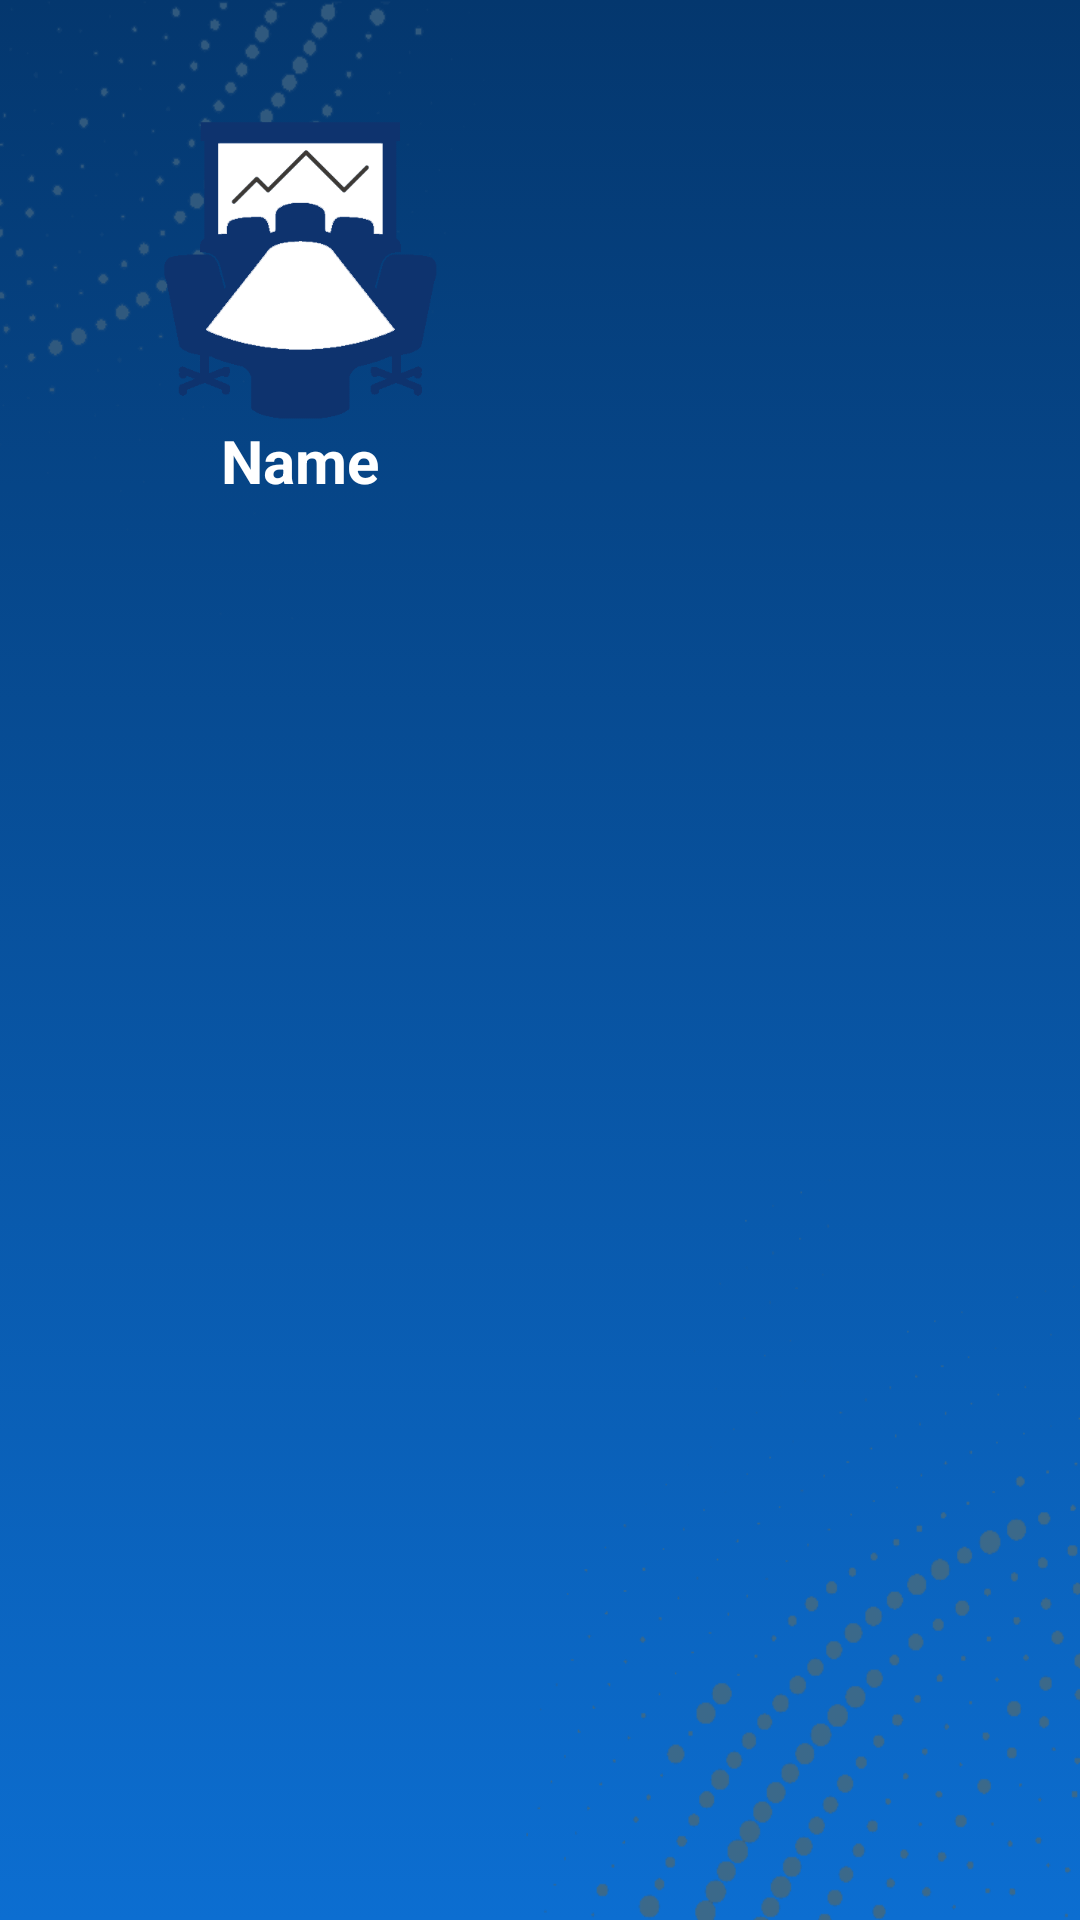

Named icons in this screenshot (1080px×1920px) and their centers, (x,y):
meetingmain: (300,269)
